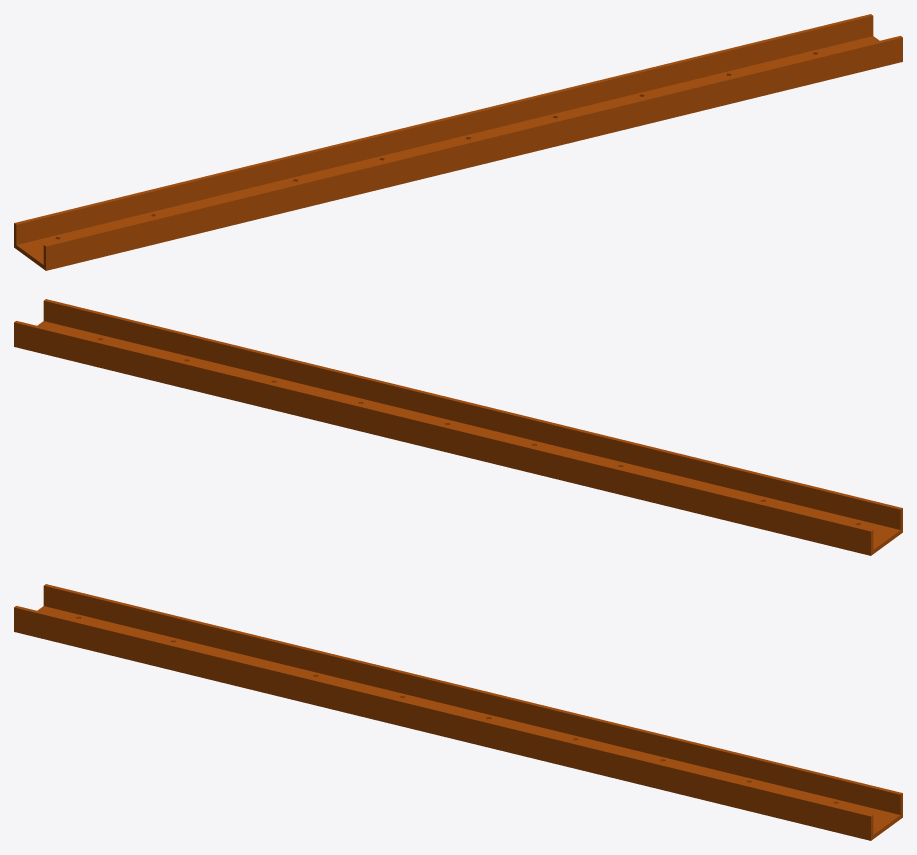
Rendered from 钢套板.FBX.
The picture shows the model from 3 angles, top to bottom: view 1: azimuth 30°, elevation 25°; view 2: azimuth 150°, elevation 25°; view 3: azimuth 330°, elevation 25°; orthographic projection.
Parts seen in each view (by area): view 1: GangTaoBan; view 2: GangTaoBan; view 3: GangTaoBan.
Part boxes in pixels (x1,y1,x2,y2): GangTaoBan: (14, 14, 902, 270); GangTaoBan: (14, 299, 902, 555); GangTaoBan: (14, 584, 902, 840).
Bounding box in the file's own units: 364 × 9.92 × 23.56.
